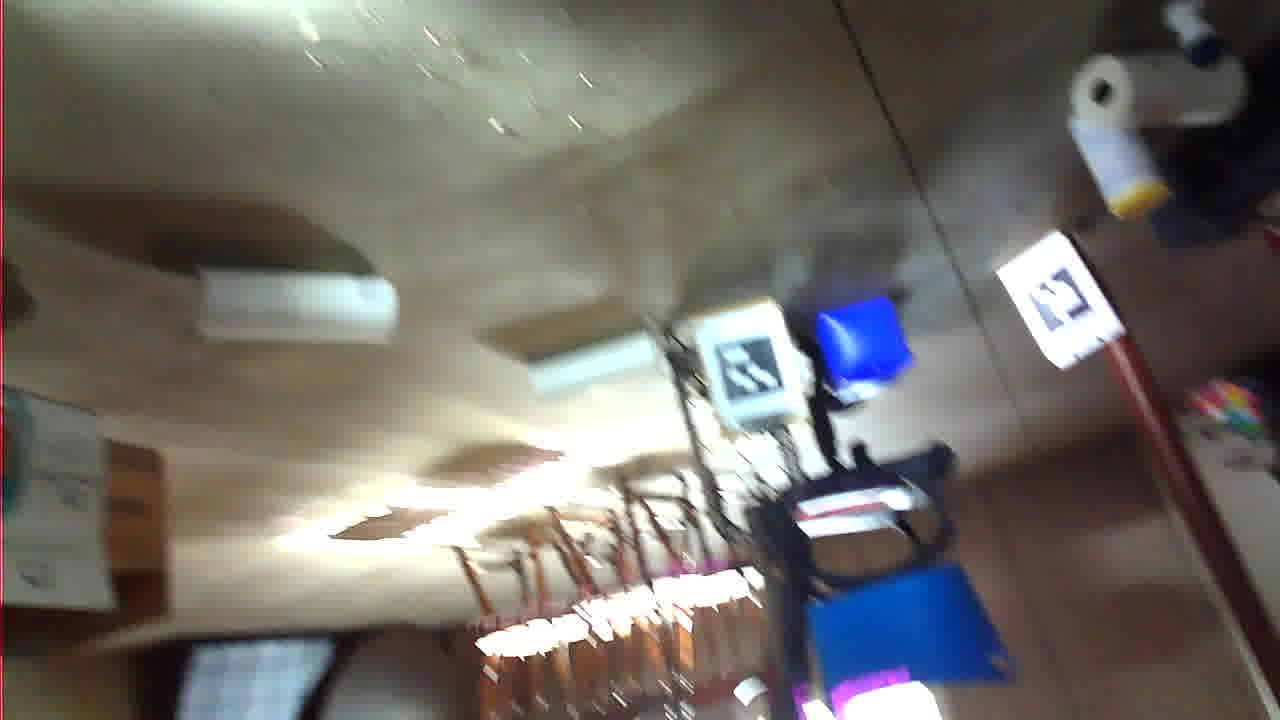coral: (885, 372, 1090, 460), (632, 319, 744, 390)
